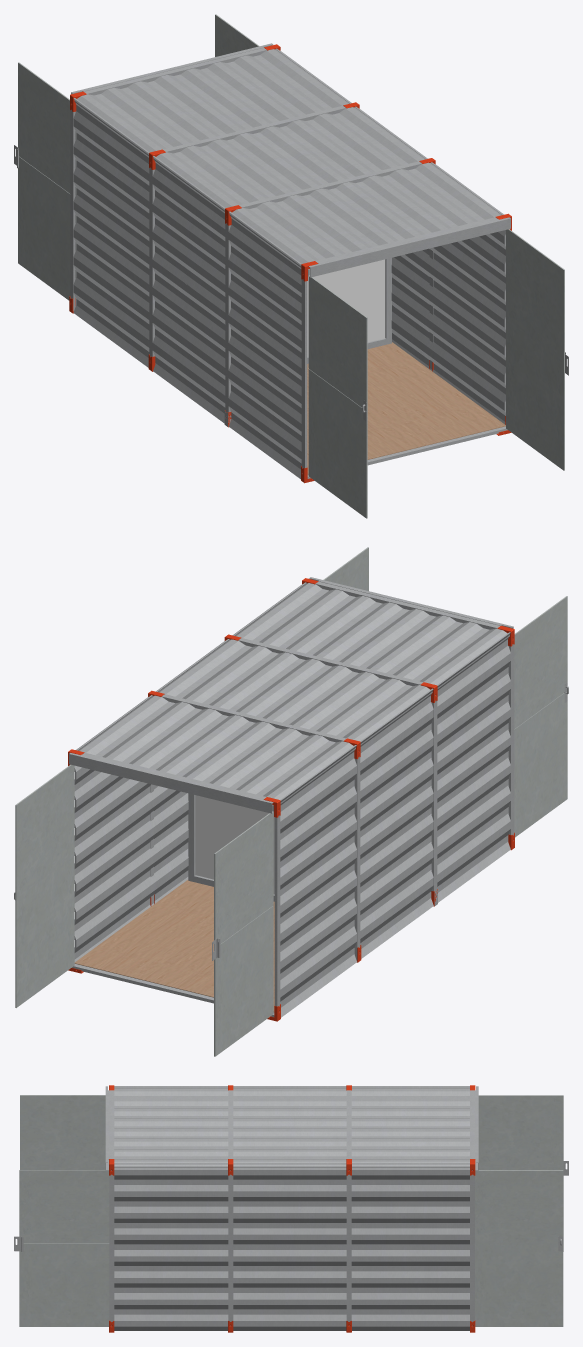
The model's file is 9D_opened.glb.
The picture shows the model from 3 angles, top to bottom: view 1: azimuth 30°, elevation 25°; view 2: azimuth 150°, elevation 25°; view 3: azimuth 270°, elevation 25°; orthographic projection. The views are drawn at different scales.
Parts seen in each view (by area): view 1: rightSide.001, ceiling.001, rightSide, leftSideDoorWing, rightSideDoorWing.001, rightSideDoorWing.002, floor.001, interiorWall, frontRim, gutter.001, rimMiddleFront, rimMiddleBack (+3 smaller); view 2: rightSide.001, ceiling.001, rightSide, rightSideDoorWing.002, leftSideDoorWing.002, leftSideDoorWing, floor.001, interiorWall, rimBack, gutter, rimMiddleBack, rimMiddleFront (+4 smaller); view 3: rightSide, ceiling.001, rightSideDoorWing.001, leftSideDoorWing.002, rightSideDoorWing.002, leftSideDoorWing, rimMiddleBack, frontRim, rimMiddleFront, rimBack, rightSide.001, gutter.001 (+1 smaller).
Part boxes in pixels (x1,y1,x2,y2): rightSide.001: (73,98,301,479); ceiling.001: (74,49,503,267); rightSide: (275,48,505,424); leftSideDoorWing: (308,277,367,518); rightSideDoorWing.001: (506,229,568,470); rightSideDoorWing.002: (14,62,76,304); floor.001: (307,342,505,474); interiorWall: (307,259,385,356); frontRim: (301,217,507,478); gutter.001: (308,217,510,277); rimMiddleFront: (225,161,433,417); rimMiddleBack: (149,105,345,362); rightSide.001: (280,632,510,1017); ceiling.001: (76,583,509,803); rightSide: (74,582,306,961); rightSideDoorWing.002: (212,813,273,1056); leftSideDoorWing.002: (14,764,74,1007); leftSideDoorWing: (514,596,568,837); floor.001: (74,880,274,1011); interiorWall: (195,795,274,894); rimBack: (72,753,280,1017); gutter: (69,753,273,813); rimMiddleBack: (150,694,360,959); rimMiddleFront: (238,638,437,891); rightSide: (114,1163,469,1330); ceiling.001: (114,1088,469,1167); rightSideDoorWing.001: (14,1170,109,1326); leftSideDoorWing.002: (475,1170,563,1326); rightSideDoorWing.002: (478,1095,568,1251); leftSideDoorWing: (20,1095,105,1169); rimMiddleBack: (346,1090,351,1325); frontRim: (109,1090,114,1326); rimMiddleFront: (228,1090,233,1325); rimBack: (470,1090,474,1326); rightSide.001: (114,1086,469,1088); gutter.001: (105,1086,109,1170).
Size of the model in its own units: 23.16 by 23.06 by 68.68.
Materials: 14 (12 with a texture image).
